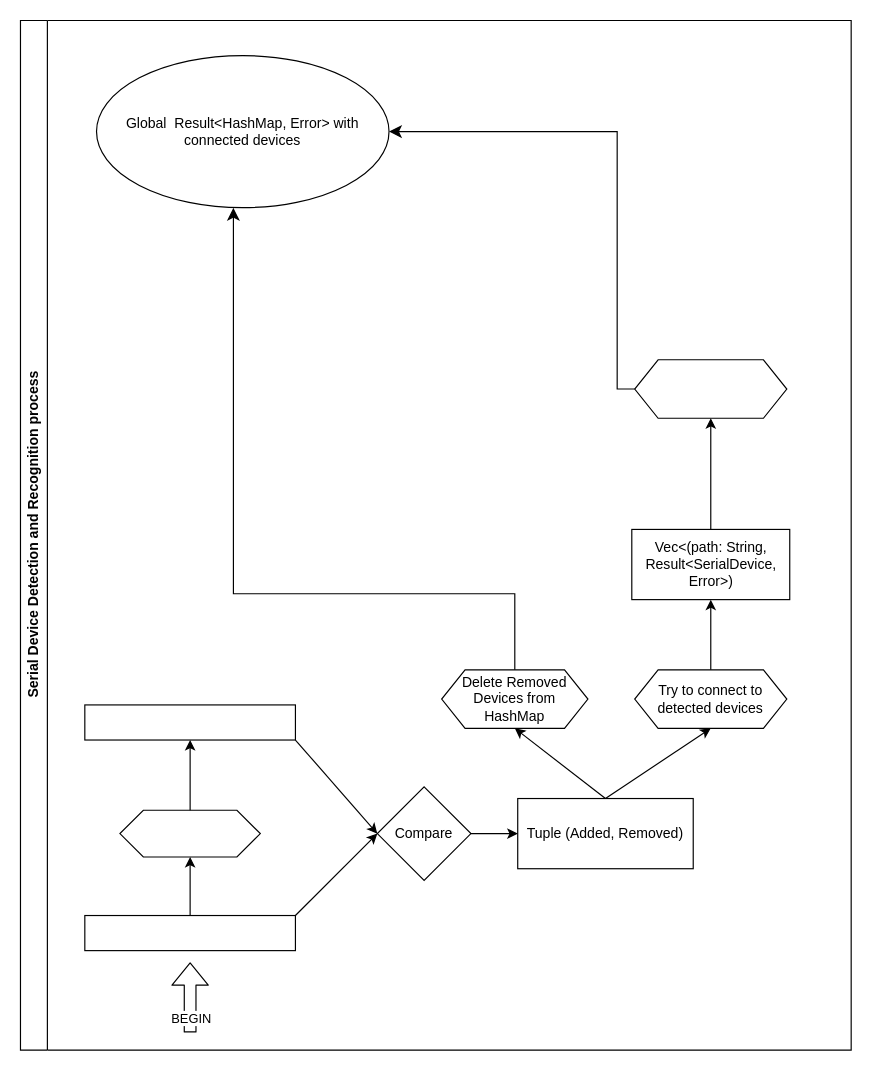
Image size: 872x1071. Some labels were removed from this diagram. Here are the shapes that lost their labels. From the top down, the centre of each, then its label:
[710,388]: ADD new Devices
[189,722]: SerialDeviceNewFound -> only USB
[189,833]: Serial Detect
[189,932]: SerialDeviceOld-> only USB
